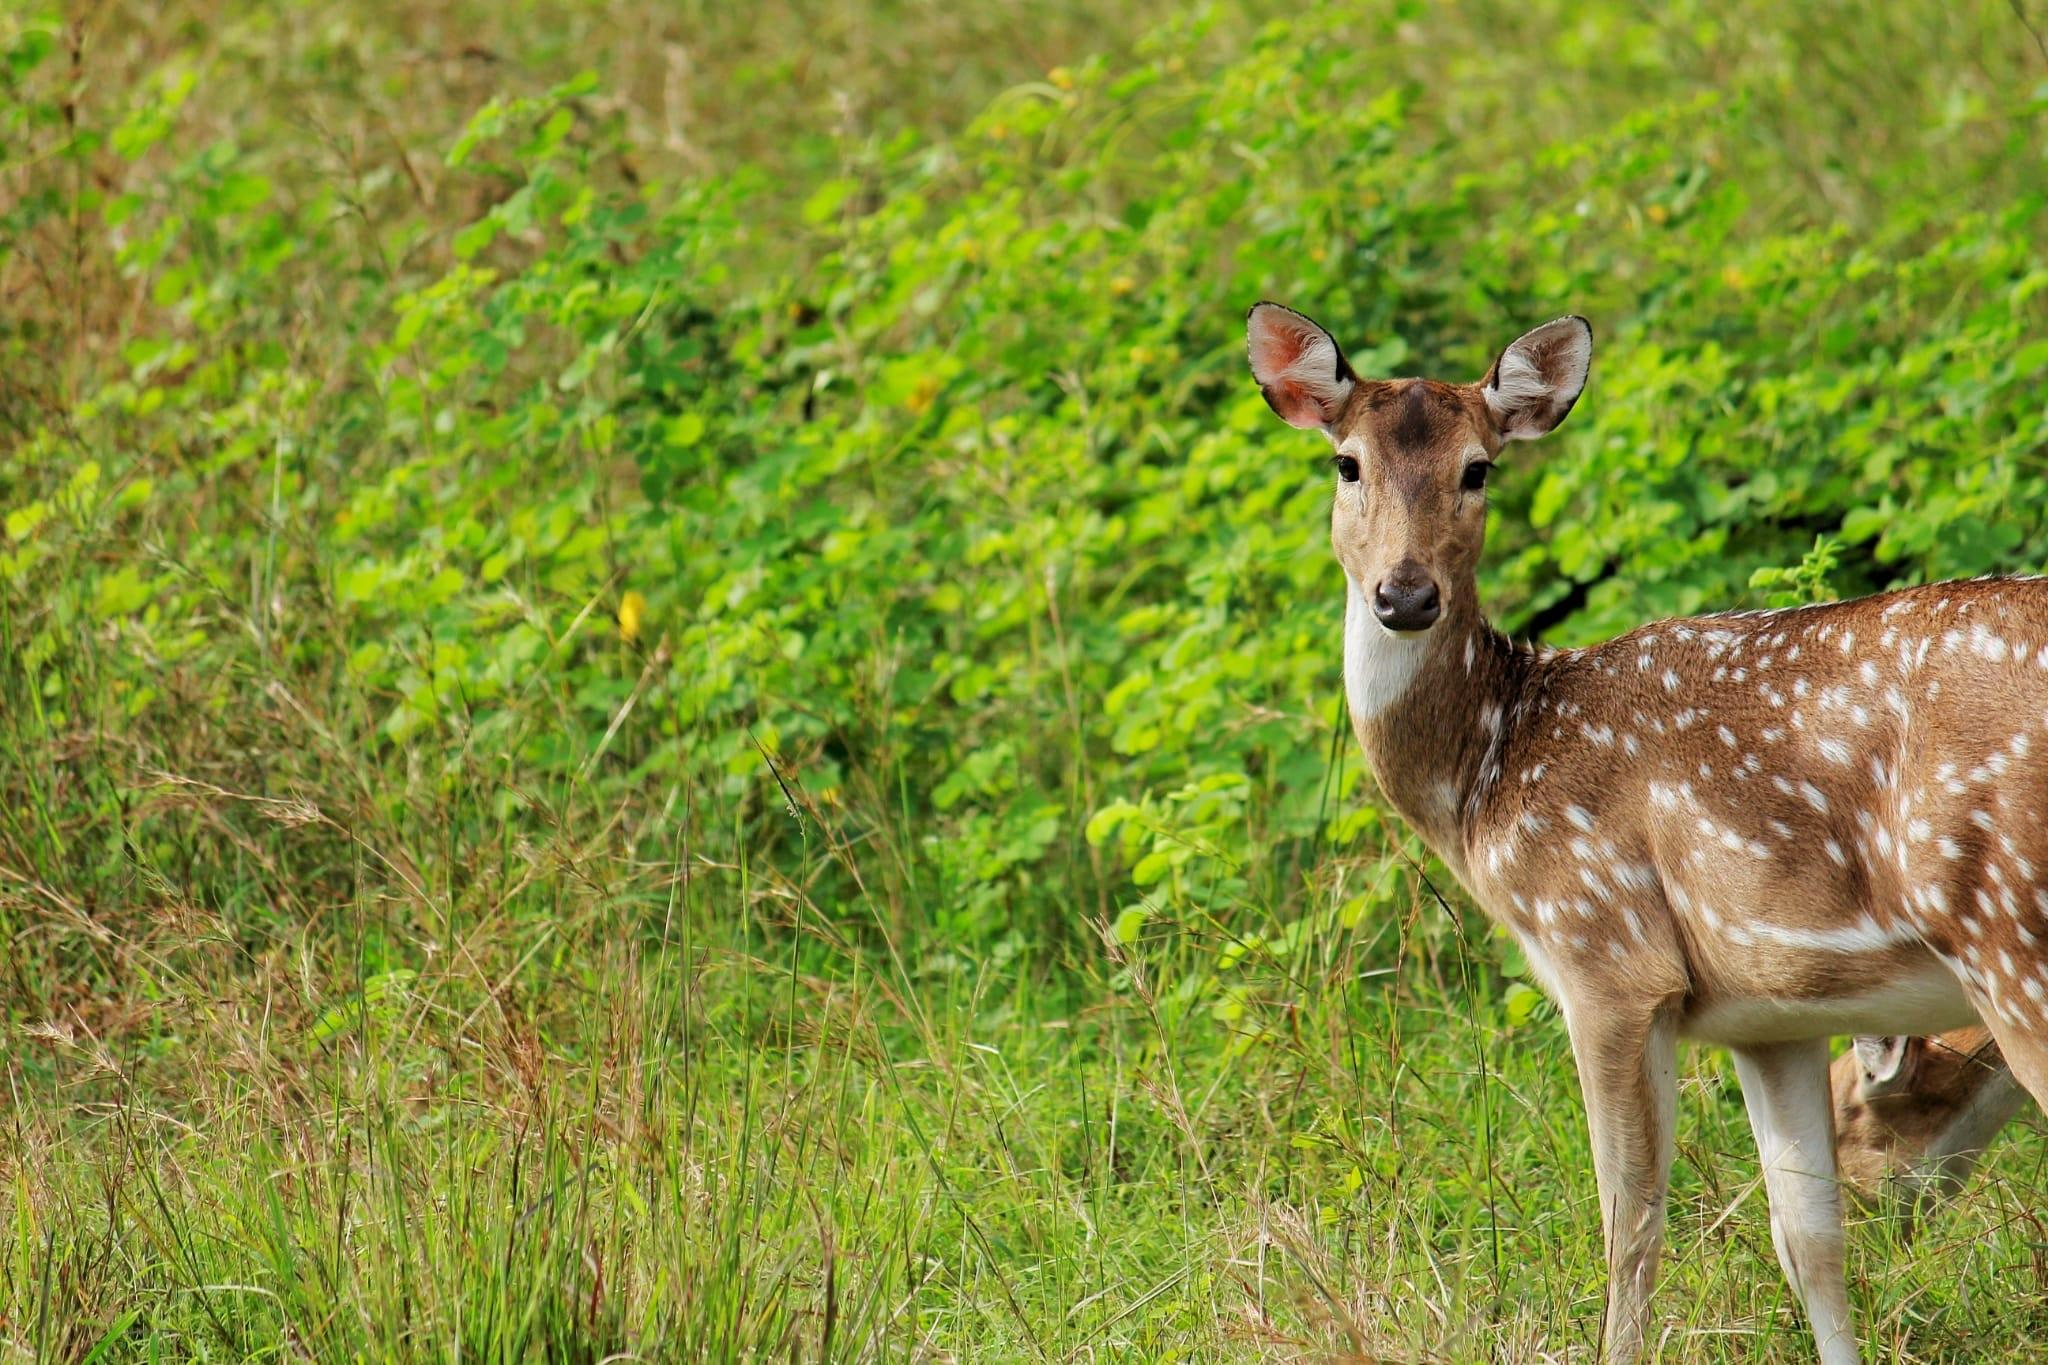Deer: (1249, 303, 2046, 1360)
